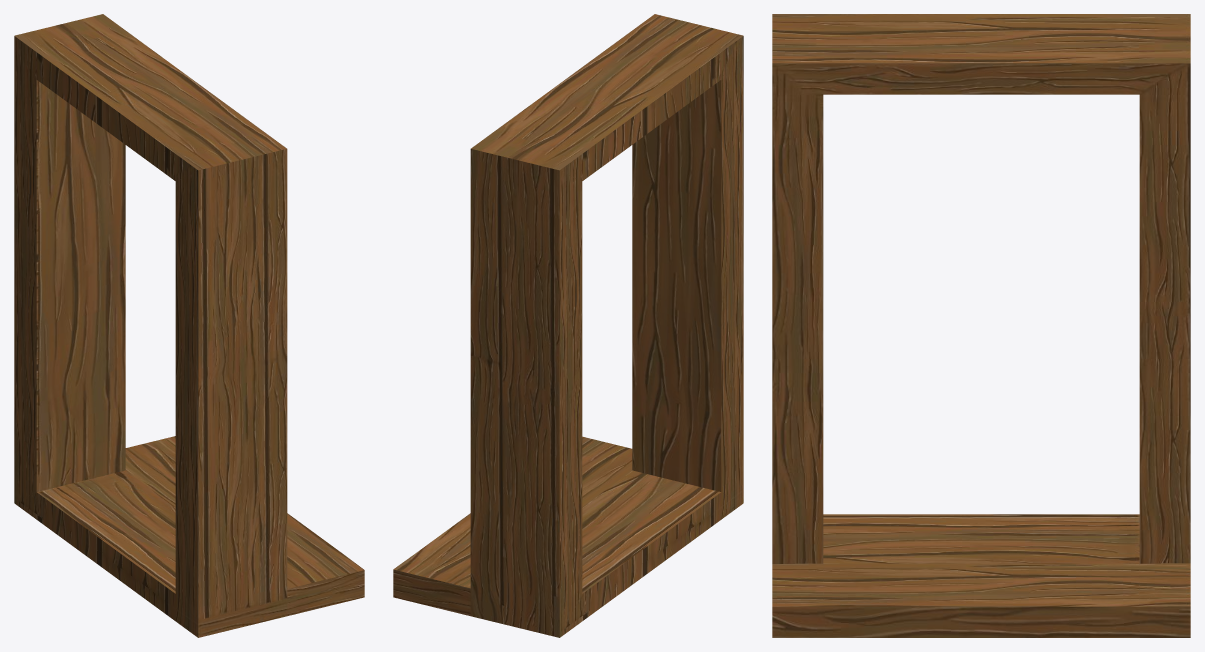
Rendered from Window.fbx.
3 renders of one model, left to right at view 1: azimuth 30°, elevation 25°; view 2: azimuth 150°, elevation 25°; view 3: azimuth 270°, elevation 25°, orthographic. The views are drawn at different scales.
Visible parts, largest first — view 1: Window; view 2: Window; view 3: Window.
Part boxes in pixels (<box>): Window: <box>14,14,364,637</box>; Window: <box>393,14,743,637</box>; Window: <box>772,14,1190,637</box>.
Bounding box in the file's own units: 22.35 × 59.95 × 42.79.
1 material, 1 textured.
